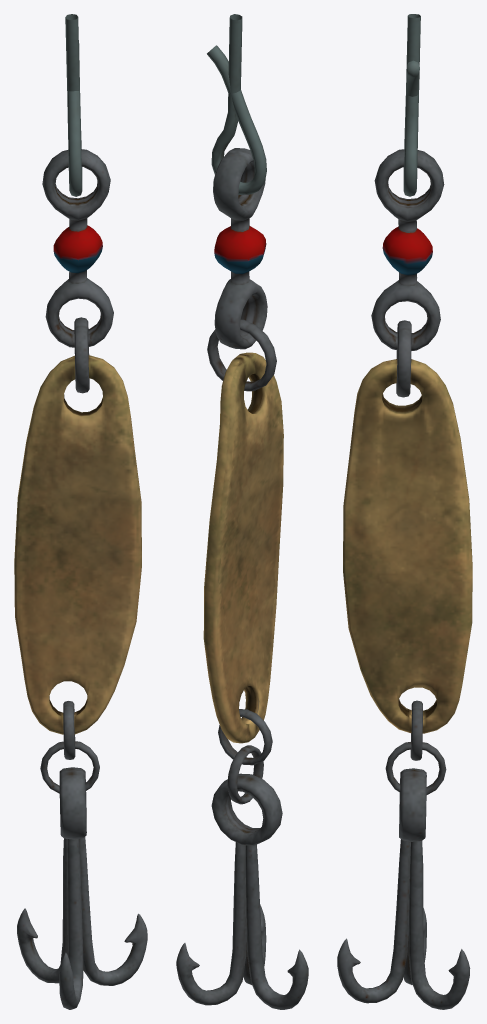
The model's file is bait.fbx.
3 views of the same model, side by side, from view 1: azimuth 90°, elevation 25°; view 2: azimuth 150°, elevation 25°; view 3: azimuth 270°, elevation 25° (orthographic).
Parts seen in each view (by area): view 1: spining01.004; view 2: spining01.004; view 3: spining01.004.
Part boxes in pixels (x1,y1,x2,y2): spining01.004: (14, 14, 147, 1009); spining01.004: (176, 14, 308, 1009); spining01.004: (337, 14, 472, 1009).
Size of the model in its own units: 3.28 by 28.14 by 3.5.
1 material, 1 textured.
